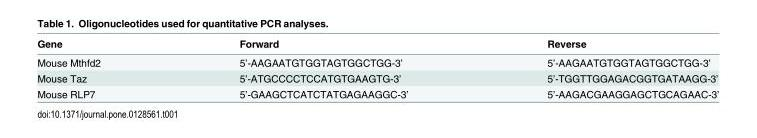table: (36, 37, 718, 99)
table column: (169, 37, 476, 99), (476, 37, 718, 99), (36, 37, 169, 99)
table column header: (36, 37, 718, 52)
table row: (36, 52, 718, 70), (36, 37, 718, 52), (36, 70, 718, 85), (36, 85, 718, 99)
